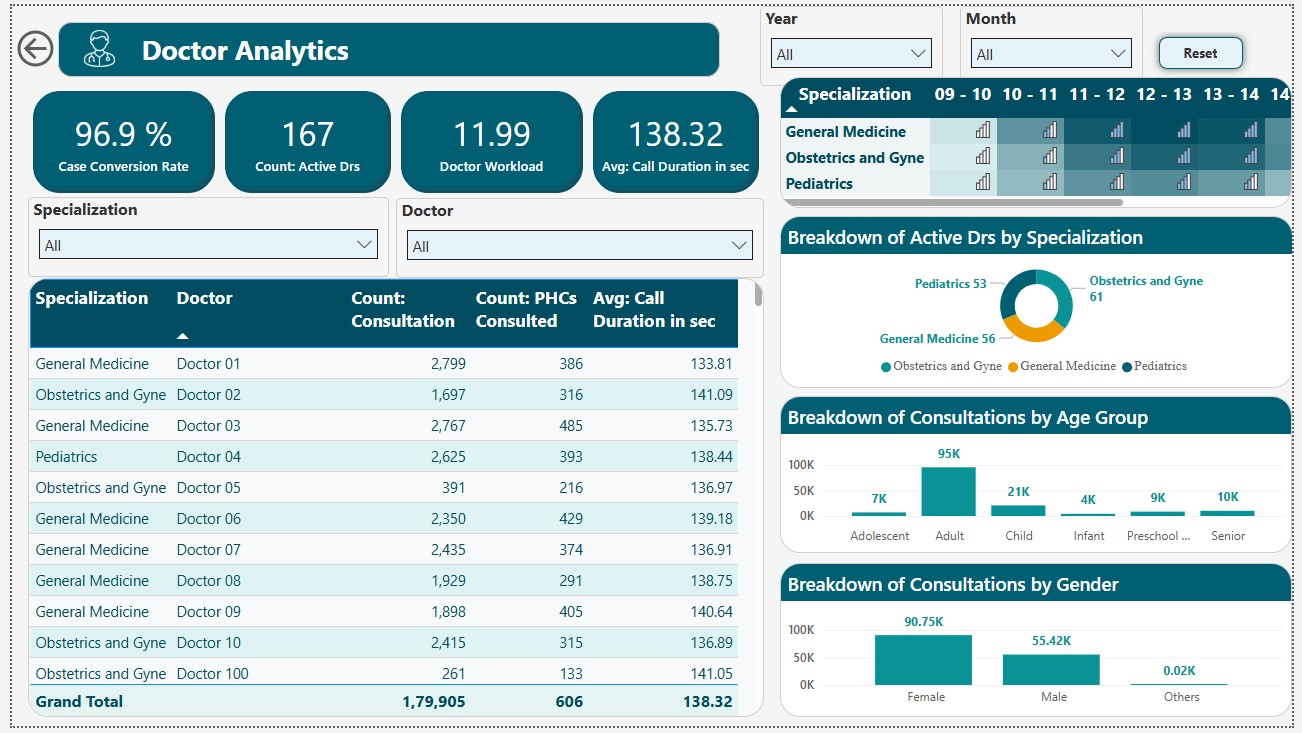

What the dashboard file says about the page in this screenshot:
{"tool":"powerbi","page":{"name":"Doctor Analytics","canvas":[1280,720],"ordinal":2},"visuals":[{"type":"group","id":"g1","title":"Group 7","box":[45.8,0,1193.1,79.9],"z":0},{"type":"shape","box":[45.8,16.1,662.3,54.7],"z":0,"group":"g3"},{"type":"image","box":[55.7,18.9,63.7,47.6],"z":1000},{"type":"group","id":"g2","title":"Group 2","box":[748.3,0,490.6,79.9],"z":2000,"group":"g1"},{"type":"cardVisual","fields":{"Data":["Processed_Appointment.Dr Conversion Rate"]},"box":[16,80,192,112],"z":2000},{"type":"donutChart","title":"Breakdown of Active Drs by Specialization","fields":{"Y":["Processed_Appointment.Count: Unique Dr Consulted"],"Category":["Processed_Dim_Doctor.Specialization"]},"box":[768,210.1,512.6,171.5],"z":3000},{"type":"group","id":"g3","title":"Group 4","box":[45.8,16.1,662.3,54.7],"z":4000,"group":"g1"},{"type":"cardVisual","fields":{"Data":["Count(Processed_Appointment.PHCID)"]},"box":[208,80,176,112],"z":4000},{"type":"slicer","title":"Year","fields":{"Values":["Processed_Dim_Date.Year"]},"box":[748.3,0,183.2,79.9],"z":5000,"group":"g2"},{"type":"cardVisual","fields":{"Data":["Processed_Consultation.Avg Patient per Dr"]},"box":[384,80,192,112],"z":5000},{"type":"slicer","title":"Month","fields":{"Values":["Processed_Dim_Date.Month Year"]},"box":[948.2,0,183.2,79.9],"z":6000,"group":"g2"},{"type":"tableEx","fields":{"Values":["Processed_Dim_Doctor.Specialization Hierarchy.Specialization","Processed_Dim_Doctor.Specialization Hierarchy.Doctor","Processed_Dim_PHC.Count: Consultation","Processed_Appointment.Count: Unique PHCs Consulted","Avg(Processed_Consultation.Call Duration)"]},"box":[16.2,272,736.2,439],"z":6000},{"type":"actionButton","box":[1139,23.3,99.9,47.5],"z":7000,"group":"g2"},{"type":"cardVisual","fields":{"Data":["Avg(Processed_Consultation.Call Duration)"]},"box":[576,80,176,112],"z":7000},{"type":"slicer","title":"Doctor","fields":{"Values":["Processed_Dim_Doctor.Doctor"]},"box":[384.2,192.1,368.1,79.9],"z":8000},{"type":"slicer","title":"Specialization","fields":{"Values":["Processed_Dim_Doctor.Specialization"]},"box":[16.2,191.2,360.9,79.9],"z":9000},{"type":"pivotTable","fields":{"Rows":["Processed_Dim_Doctor.Specialization"],"Columns":["Processed_Consultation.Hour"],"Values":["CountNonNull(Processed_Consultation.Status: Consultation)"]},"box":[767.6,70.9,512.6,131.1],"z":10000},{"type":"columnChart","title":"Breakdown of Consultations by Gender","fields":{"Category":["Processed_Consultation.Gender"],"Y":["CountNonNull(Processed_Consultation.Status: Consultation)"]},"box":[767.6,556.6,512.6,154.4],"z":11000},{"type":"columnChart","title":"Breakdown of Consultations by Age Group","fields":{"Category":["Processed_Consultation.Age_grp"],"Y":["CountNonNull(Processed_Consultation.Status: Consultation)"]},"box":[768,389.6,511.7,157.1],"z":12000},{"type":"actionButton","box":[0,18.9,111.3,47.6],"z":13000}]}

Visuals, with their boxes in screenshot pixels (x1, y1, x2, y2), scaled from the page's 1280x720 canvas onto the 1302x733 screenshot:
"Group 7" group: [47,0,1260,81]
shape: [47,16,720,72]
image: [57,19,121,68]
"Group 2" group: [761,0,1260,81]
cardVisual - Processed_Appointment.Dr Conversion Rate: [16,81,212,195]
"Breakdown of Active Drs by Specialization" donutChart: [781,214,1301,388]
"Group 4" group: [47,16,720,72]
cardVisual - Count(Processed_Appointment.PHCID): [212,81,391,195]
"Year" slicer: [761,0,948,81]
cardVisual - Processed_Consultation.Avg Patient per Dr: [391,81,586,195]
"Month" slicer: [964,0,1151,81]
tableEx - Processed_Dim_Doctor.Specialization Hierarchy.Specialization x Processed_Dim_Doctor.Specialization Hierarchy.Doctor: [16,277,765,724]
actionButton: [1159,24,1260,72]
cardVisual - Avg(Processed_Consultation.Call Duration): [586,81,765,195]
"Doctor" slicer: [391,196,765,277]
"Specialization" slicer: [16,195,384,276]
pivotTable - Processed_Dim_Doctor.Specialization x Processed_Consultation.Hour: [781,72,1301,206]
"Breakdown of Consultations by Gender" columnChart: [781,567,1301,724]
"Breakdown of Consultations by Age Group" columnChart: [781,397,1301,557]
actionButton: [0,19,113,68]
